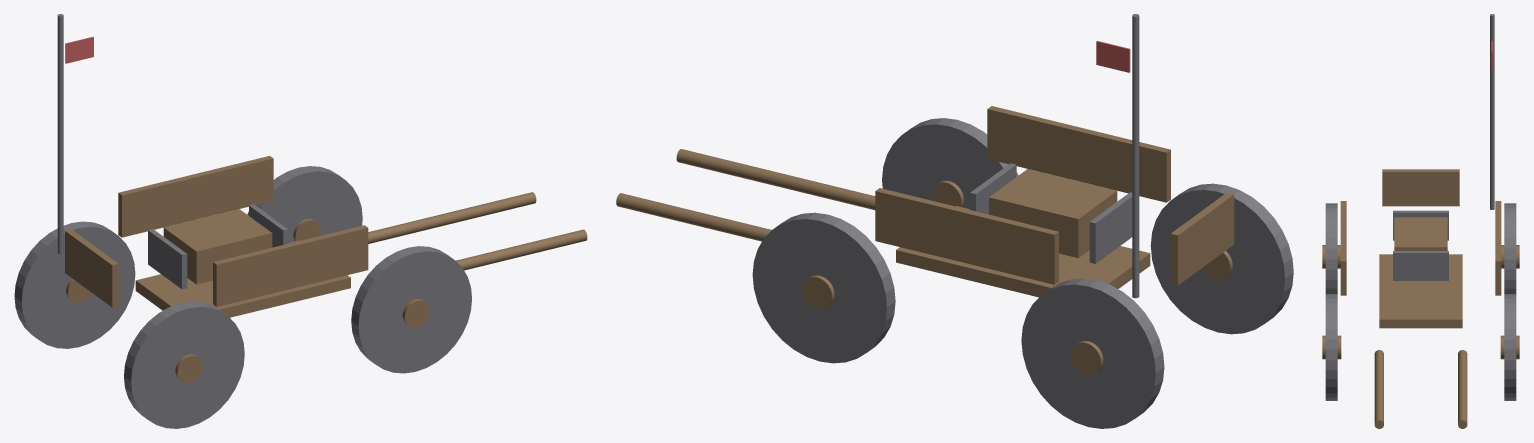
The model's file is tax_sheriff_cart.glb.
3 renders of one model, left to right at view 1: azimuth 30°, elevation 25°; view 2: azimuth 150°, elevation 25°; view 3: azimuth 270°, elevation 25°, orthographic. The views are drawn at different scales.
Parts seen in each view (by area): view 1: Cylinder, Cylinder.002, Cylinder.004, Cube.001, Cube.002, Cylinder.006, Cube.004, Cube, Cube.003, Cylinder.009, Cylinder.010, Cylinder.008 (+5 smaller); view 2: Cylinder.006, Cylinder.004, Cylinder, Cube.002, Cube.001, Cylinder.002, Cube.004, Cube, Cube.003, Cylinder.008, Cylinder.010, Cylinder.009 (+6 smaller); view 3: Cube, Cube.003, Cube.004, Cube.006, Cylinder.002, Cylinder.006, Cylinder, Cylinder.004, Cylinder.010, Cylinder.008, Cylinder.009, Cube.001 (+4 smaller).
Part boxes in pixels (x1,y1,x2,y2): Cylinder: (124,301,244,428); Cylinder.002: (351,246,471,373); Cylinder.004: (14,221,135,348); Cube.001: (213,225,368,306); Cube.002: (118,156,273,237); Cylinder.006: (247,166,362,242); Cube.004: (163,209,272,284); Cube: (135,240,350,317); Cube.003: (65,229,118,307); Cylinder.009: (368,192,536,243); Cylinder.010: (57,14,63,254); Cylinder.008: (456,229,587,270); Cylinder.006: (752,212,895,363); Cylinder.004: (1021,278,1164,428); Cylinder: (1150,183,1293,334); Cube.002: (875,188,1058,284); Cube.001: (987,106,1170,202); Cylinder.002: (882,118,1018,208); Cube.004: (989,169,1117,258); Cube: (896,206,1150,297); Cube.003: (1170,192,1234,285); Cylinder.008: (676,149,875,210); Cylinder.010: (1132,14,1139,298); Cylinder.009: (616,193,771,241); Cube: (1379,254,1462,328); Cube.003: (1382,169,1459,206); Cube.004: (1394,217,1447,250); Cube.006: (1393,251,1448,280); Cylinder.002: (1325,294,1337,400); Cylinder.006: (1504,294,1516,400); Cylinder: (1325,203,1337,293); Cylinder.004: (1504,203,1516,293); Cylinder.010: (1490,14,1494,209); Cylinder.008: (1374,350,1383,428); Cylinder.009: (1458,350,1467,428); Cube.001: (1340,201,1346,295).
Bounding box in the file's own units: 3.85 × 2.6 × 1.66.
